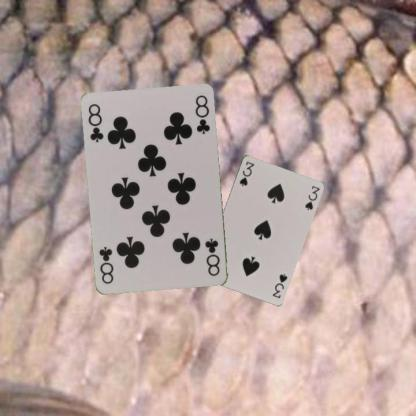3s: (237, 159, 255, 187), (270, 271, 288, 299)
8c: (202, 236, 222, 277), (86, 101, 105, 144)
